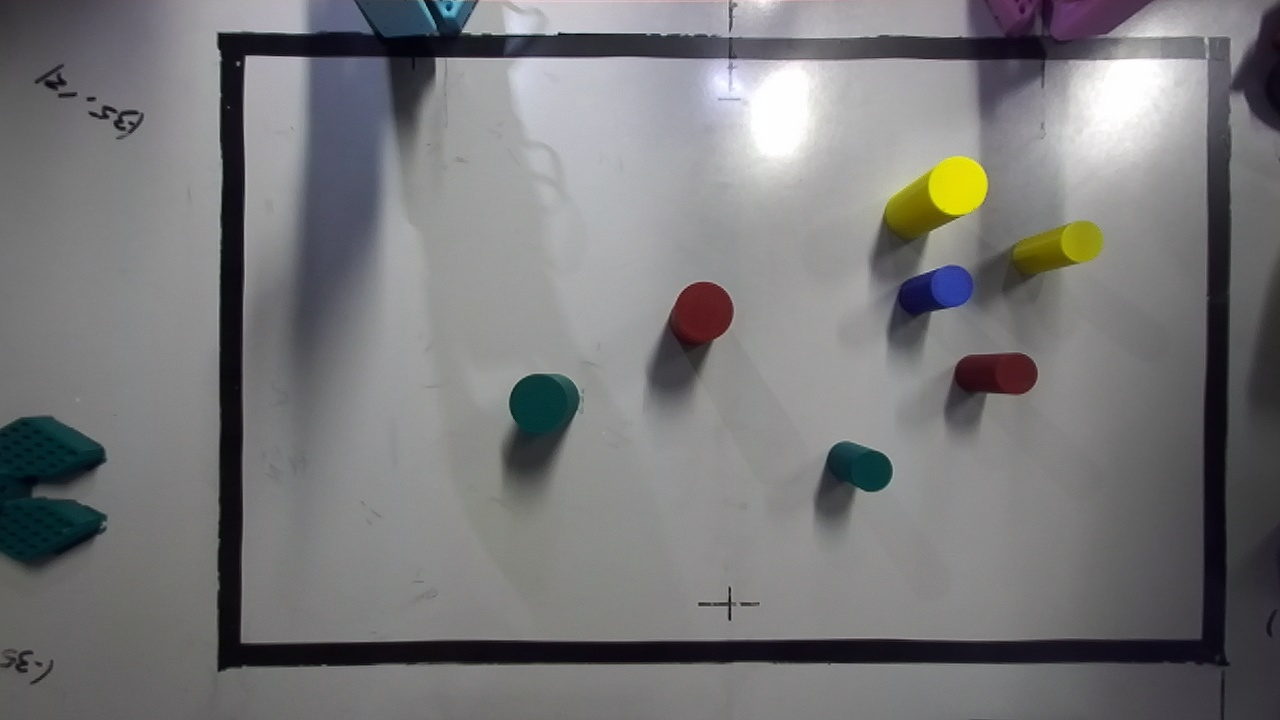cylinder: (883, 156, 987, 239), (1011, 221, 1102, 274), (509, 374, 581, 433), (669, 282, 733, 345), (897, 265, 973, 314), (954, 353, 1037, 394), (826, 440, 892, 491)
